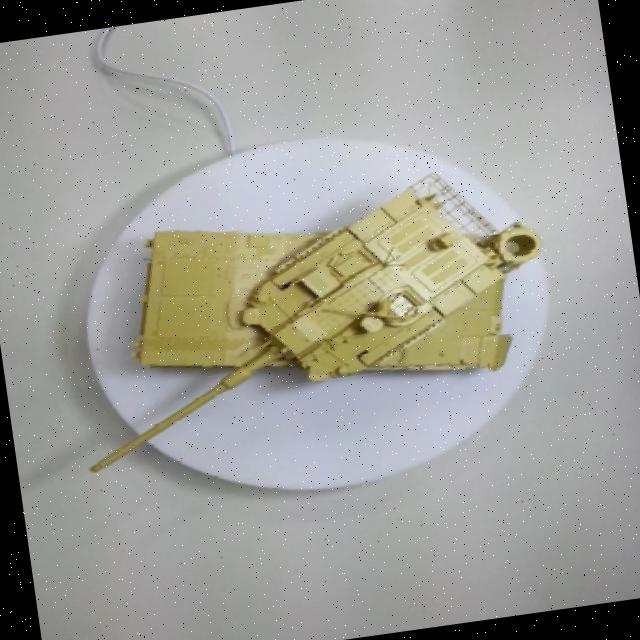korea tank: (9, 110, 588, 524)
